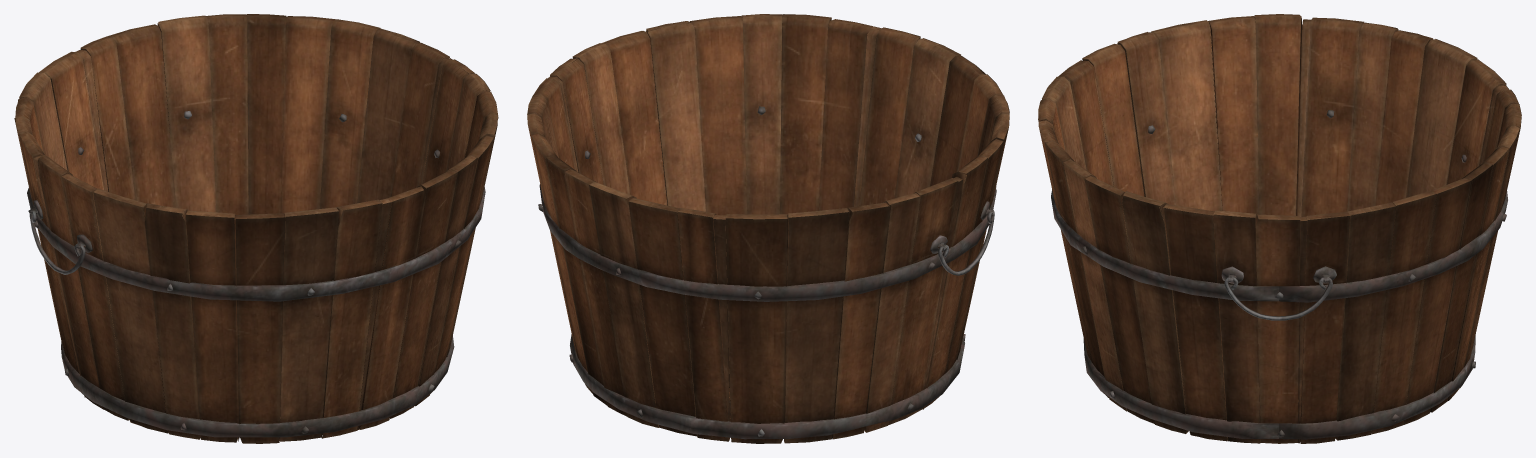
File: wooden_bucket_02.glb
3 views of the same model, side by side, from view 1: azimuth 30°, elevation 25°; view 2: azimuth 150°, elevation 25°; view 3: azimuth 270°, elevation 25° (orthographic).
Visible parts, largest first — view 1: wooden_bucket_02, wooden_bucket_02_handle_01; view 2: wooden_bucket_02, wooden_bucket_02_handle_01; view 3: wooden_bucket_02, wooden_bucket_02_handle_02.
Part boxes in pixels (left/top/right/bottom): wooden_bucket_02: left=14, top=14, right=498, bottom=443; wooden_bucket_02_handle_01: left=29, top=209, right=85, bottom=274; wooden_bucket_02: left=527, top=14, right=1009, bottom=443; wooden_bucket_02_handle_01: left=938, top=210, right=994, bottom=275; wooden_bucket_02: left=1038, top=14, right=1521, bottom=443; wooden_bucket_02_handle_02: left=1224, top=277, right=1332, bottom=320.
Bounding box in the file's own units: 0.6139 × 0.3509 × 0.6146.
Materials: 1 (1 with a texture image).
